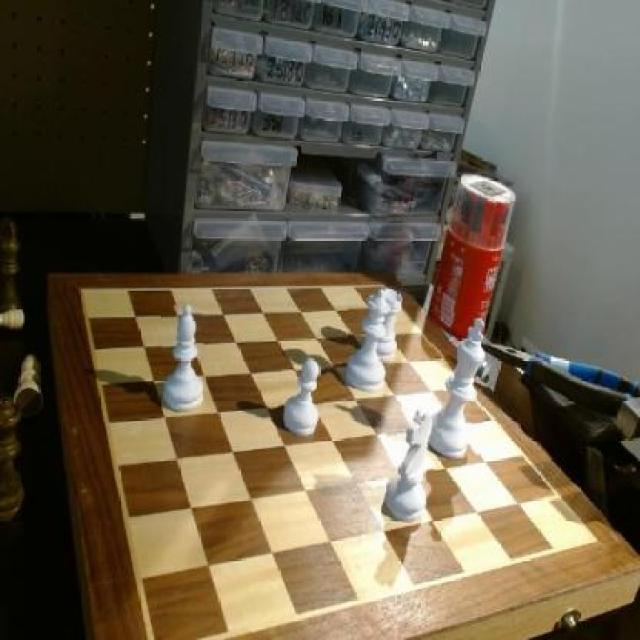black-rook: (163, 304, 208, 416)
white-bishop: (429, 310, 484, 454)
white-king: (386, 405, 435, 522)
white-knight: (280, 358, 325, 440)
white-pawn: (348, 289, 387, 397)
white-queen: (377, 285, 401, 362)
